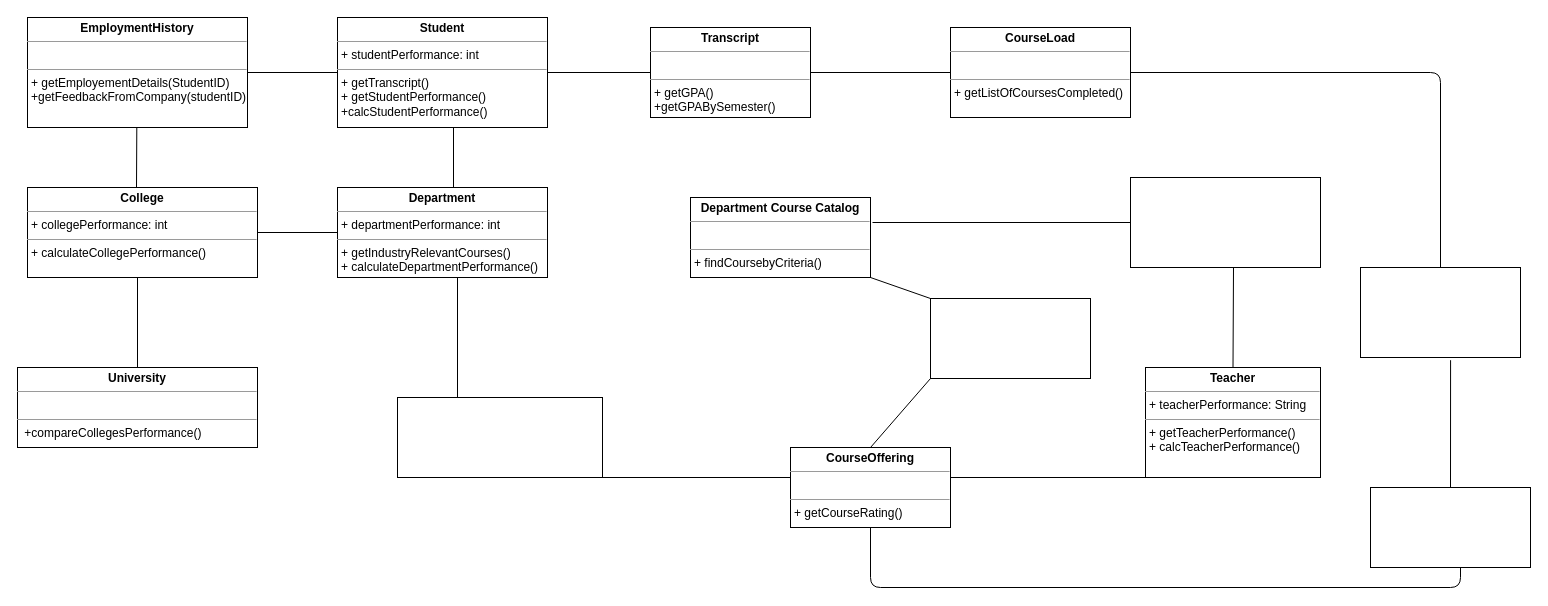
Some shapes in this 1548 by 606 pixel diagram are drawn without their labels. The centre of each missing label's shape, as x and y in pixels:
"Course + creditHours: String" goes at (1010,338).
"Department Course Schedule + getCoursesOfferedByCriteria()" goes at (499,437).
"Faculty + getTeachingFacultyList() + getNonTeachingFacultyList()" goes at (1225,222).
"Seat + name: String" goes at (1450,527).
"Seat Assignment + seatAssign: boolean + isSeatAssigned()" goes at (1440,312).
